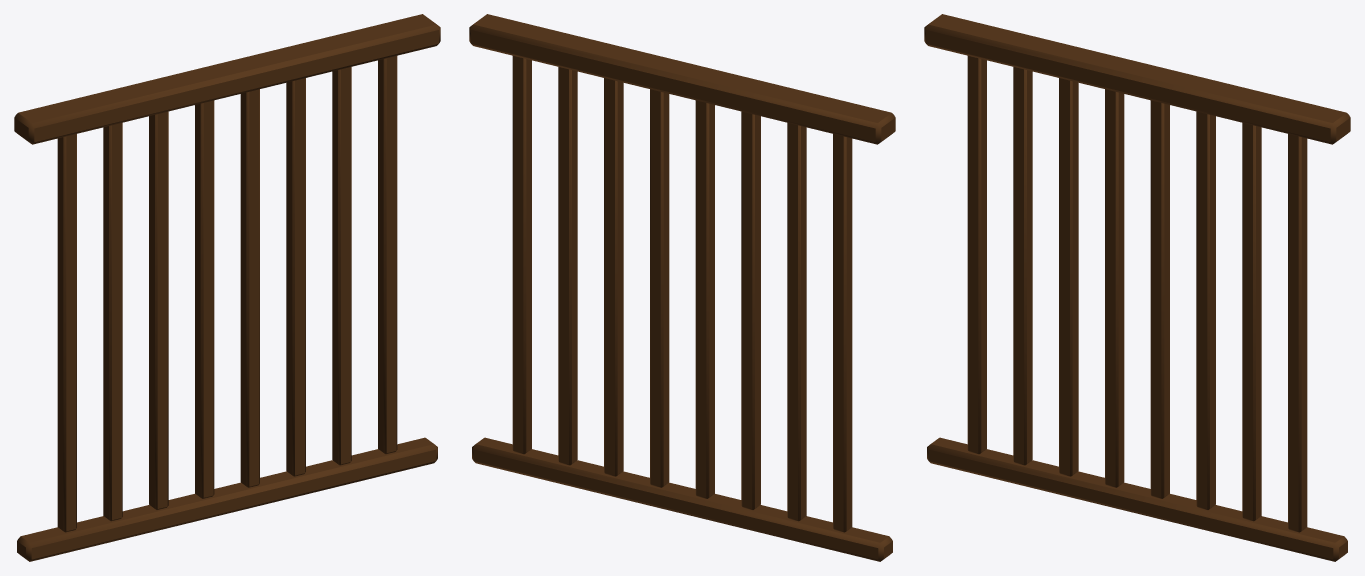
The model's file is gelaender_1m.glb.
3 renders of one model, left to right at view 1: azimuth 30°, elevation 25°; view 2: azimuth 150°, elevation 25°; view 3: azimuth 330°, elevation 25°, orthographic.
Parts seen in each view (by area): view 1: gelaender_1m; view 2: gelaender_1m; view 3: gelaender_1m.
Boxes of the visible parts, x1,y1,x2,y2 form: gelaender_1m: (14,14,440,561); gelaender_1m: (469,14,895,561); gelaender_1m: (924,14,1350,561).
Bounding box in the file's own units: 0.9 × 0.92 × 0.07.
